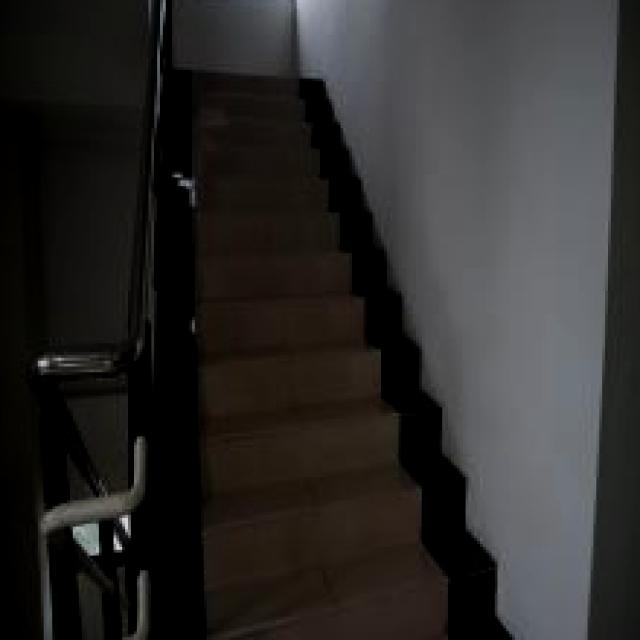upstair: (167, 50, 370, 640)
